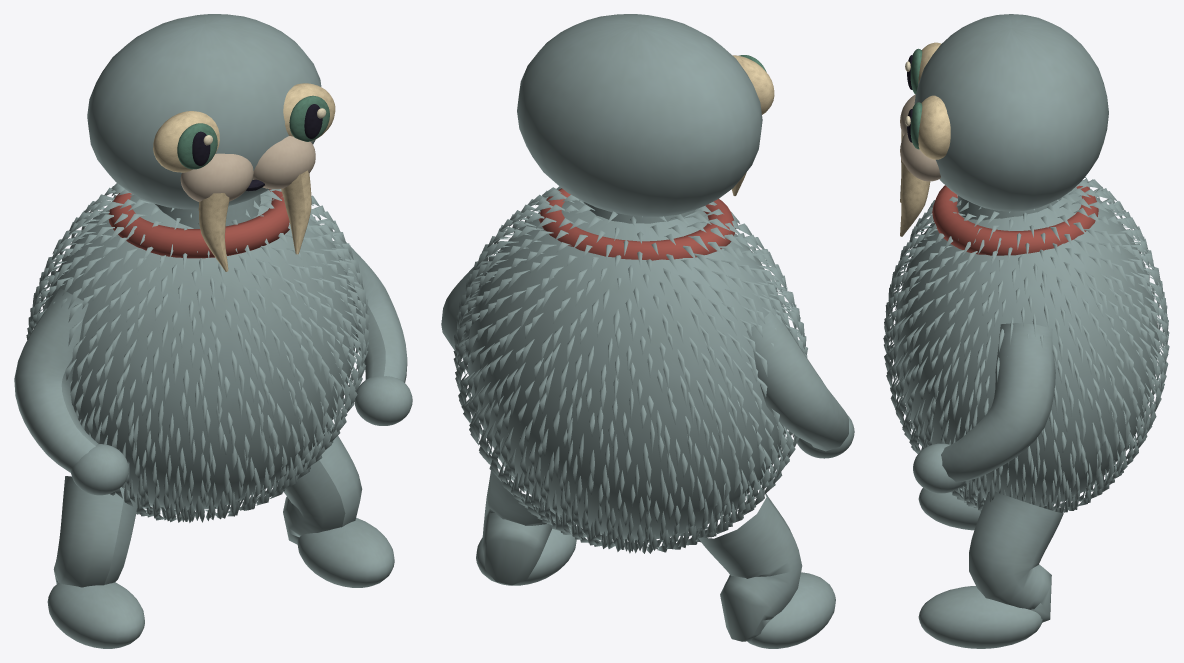
The model's file is marlo.glb.
The picture shows the model from 3 angles, left to right: view 1: azimuth 30°, elevation 25°; view 2: azimuth 150°, elevation 25°; view 3: azimuth 270°, elevation 25°; orthographic projection. The views are drawn at different scales.
Parts seen in each view (by area): view 1: Heavy coat, Guard hairs, Cranium, Forearm (×2), Bent limb (×2), Foot (×2), Wool scarf, Whisker pad (×2), Hand (×2), Ivory tusk (×2), Sclera (×2), Iris (×2) (+1 smaller); view 2: Heavy coat, Guard hairs, Cranium, Bent limb (×2), Forearm (×2), Foot (×2), Wool scarf, Sclera, Visible neck, Hand; view 3: Heavy coat, Guard hairs, Cranium, Forearm, Bent limb, Foot (×2), Wool scarf, Sclera, Hand, Ivory tusk, Whisker pad, Visible neck.
Part boxes in pixels (x1,y1,x2,y2): Heavy coat: (43, 190, 356, 509); Guard hairs: (26, 183, 369, 522); Cranium: (87, 14, 321, 209); Forearm (×2): (14, 231, 407, 472); Bent limb (×2): (53, 426, 362, 587); Foot (×2): (47, 518, 394, 648); Wool scarf: (108, 189, 289, 258); Whisker pad (×2): (180, 136, 315, 201); Hand (×2): (71, 376, 412, 495); Ivory tusk (×2): (198, 170, 311, 271); Sclera (×2): (153, 83, 335, 172); Iris (×2): (177, 95, 329, 169); Heavy coat: (467, 199, 792, 539); Guard hairs: (453, 186, 807, 553); Cranium: (517, 14, 762, 216); Bent limb (×2): (482, 471, 802, 641); Forearm (×2): (441, 257, 848, 451); Foot (×2): (476, 518, 835, 648); Wool scarf: (538, 188, 735, 260); Sclera: (732, 55, 774, 114); Visible neck: (584, 202, 696, 223); Hand: (797, 415, 854, 458); Heavy coat: (894, 187, 1158, 506); Guard hairs: (883, 177, 1169, 512); Cranium: (914, 14, 1108, 211); Forearm: (941, 323, 1055, 482); Bent limb: (969, 491, 1063, 622); Foot (×2): (918, 488, 1042, 648); Wool scarf: (932, 185, 1098, 255); Sclera: (918, 95, 950, 159); Hand: (913, 443, 965, 493); Ivory tusk: (900, 161, 930, 236); Whisker pad: (900, 131, 940, 181); Visible neck: (957, 195, 1061, 220).
Size of the model in its own units: 1.11 by 1.62 by 0.7559.
7 materials, 7 textured.
